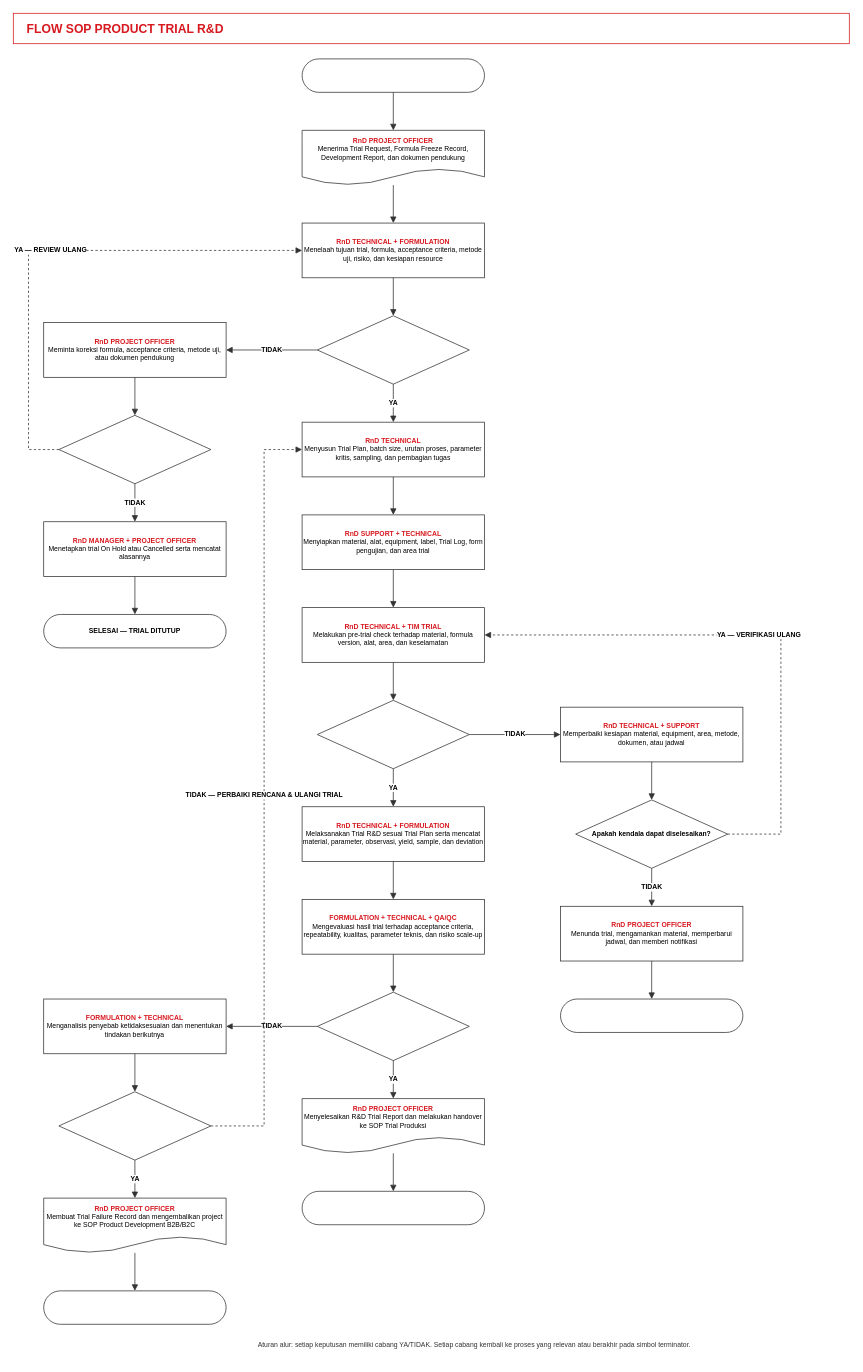
This 863x1372 diagram has some shape labels left out. The centre of each missing label's shape, as x and y in pixels:
Apakah diperlukan reformulasi?: the point at 134,1125
Apakah dokumen dan data trial lengkap?: the point at 393,349
Apakah hasil memenuhi acceptance criteria?: the point at 393,1026
Apakah kelengkapan dipenuhi?: the point at 134,449
Apakah seluruh kebutuhan trial siap?: the point at 393,734
MULAI: the point at 392,75
SELESAI — KEMBALI KE DEVELOPMENT: the point at 134,1307
SELESAI — SIAP TRIAL PRODUKSI: the point at 392,1208
SELESAI — TRIAL DITUNDA: the point at 651,1015
